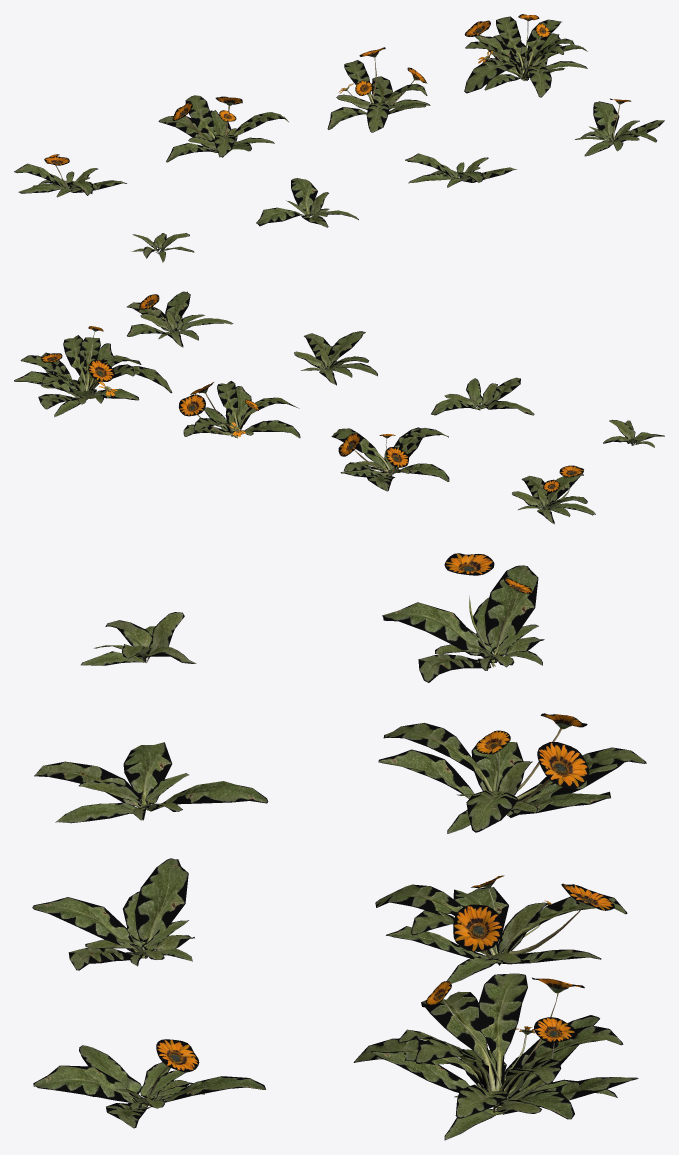
The model's file is flower_gazania.glb.
3 renders of one model, top to bottom at view 1: azimuth 30°, elevation 25°; view 2: azimuth 150°, elevation 25°; view 3: azimuth 270°, elevation 25°, orthographic. The views are drawn at different scales.
Parts seen in each view (by area): view 1: flower_gazania_h_LOD0, flower_gazania_f_LOD0, flower_gazania_g_LOD0, flower_gazania_d_LOD0, flower_gazania_b_LOD0, flower_gazania_e_LOD0, flower_gazania_c_LOD0, flower_gazania_a_LOD0; view 2: flower_gazania_h_LOD0, flower_gazania_g_LOD0, flower_gazania_f_LOD0, flower_gazania_d_LOD0, flower_gazania_e_LOD0, flower_gazania_c_LOD0, flower_gazania_b_LOD0, flower_gazania_a_LOD0; view 3: flower_gazania_h_LOD0, flower_gazania_f_LOD0, flower_gazania_g_LOD0, flower_gazania_e_LOD0, flower_gazania_c_LOD0, flower_gazania_d_LOD0, flower_gazania_b_LOD0, flower_gazania_a_LOD0.
Part boxes in pixels (x1,y1,x2,y2): flower_gazania_h_LOD0: (464,14,587,97); flower_gazania_f_LOD0: (158,95,288,162); flower_gazania_g_LOD0: (327,47,430,132); flower_gazania_d_LOD0: (575,98,664,156); flower_gazania_b_LOD0: (256,178,358,227); flower_gazania_e_LOD0: (14,154,126,197); flower_gazania_c_LOD0: (405,153,516,187); flower_gazania_a_LOD0: (132,233,194,262); flower_gazania_h_LOD0: (14,326,172,417); flower_gazania_g_LOD0: (179,381,300,438); flower_gazania_f_LOD0: (331,427,449,491); flower_gazania_d_LOD0: (127,291,233,347); flower_gazania_e_LOD0: (512,465,595,524); flower_gazania_c_LOD0: (294,331,377,385); flower_gazania_b_LOD0: (431,377,534,415); flower_gazania_a_LOD0: (603,419,664,447); flower_gazania_h_LOD0: (353,973,638,1140); flower_gazania_f_LOD0: (378,713,646,833); flower_gazania_g_LOD0: (375,875,627,983); flower_gazania_e_LOD0: (382,553,544,682); flower_gazania_c_LOD0: (32,858,194,970); flower_gazania_d_LOD0: (33,1039,265,1128); flower_gazania_b_LOD0: (34,742,268,823); flower_gazania_a_LOD0: (81,612,196,665).
Bounding box in the file's own units: 1.48 × 0.1653 × 0.7028.
Materials: 1 (1 with a texture image).
